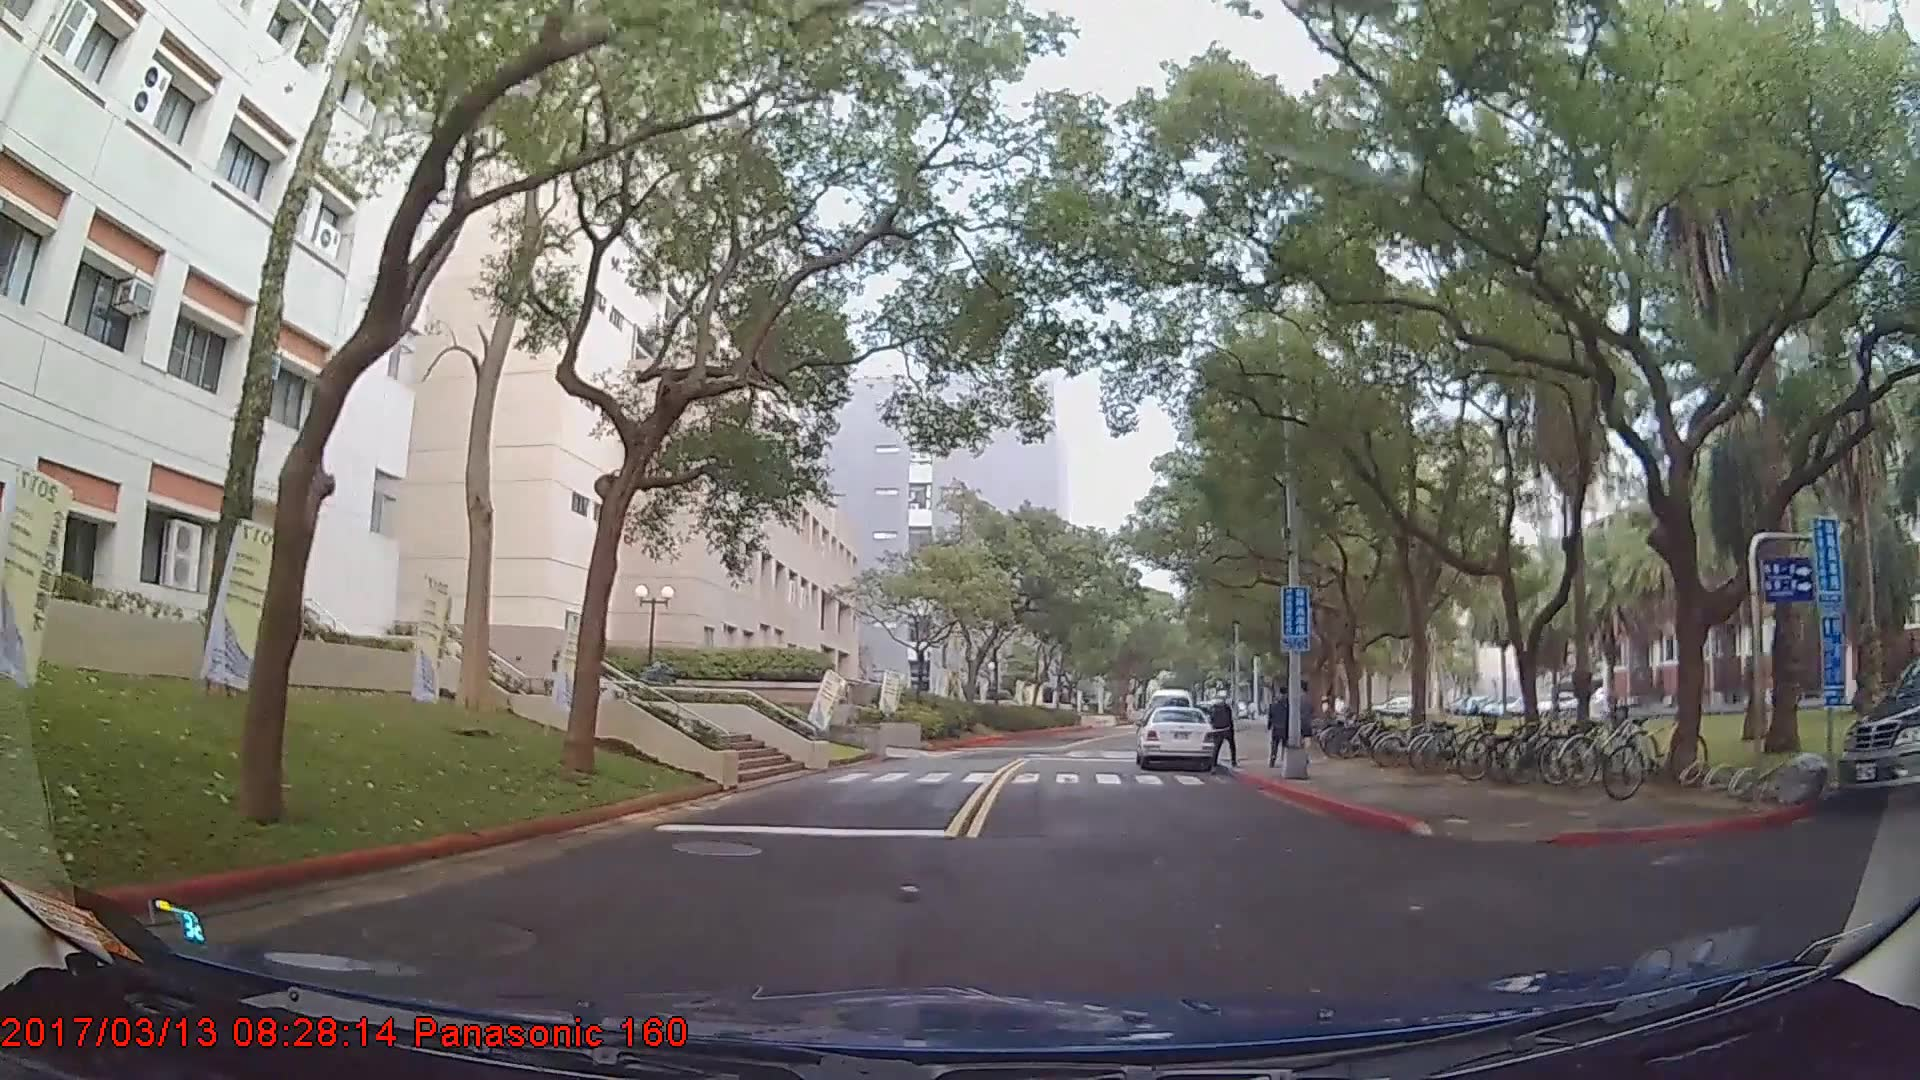pedestrian: (1264, 684, 1299, 768), (1211, 683, 1238, 762)
vehicle: (1836, 654, 1920, 804), (1133, 701, 1219, 768)
